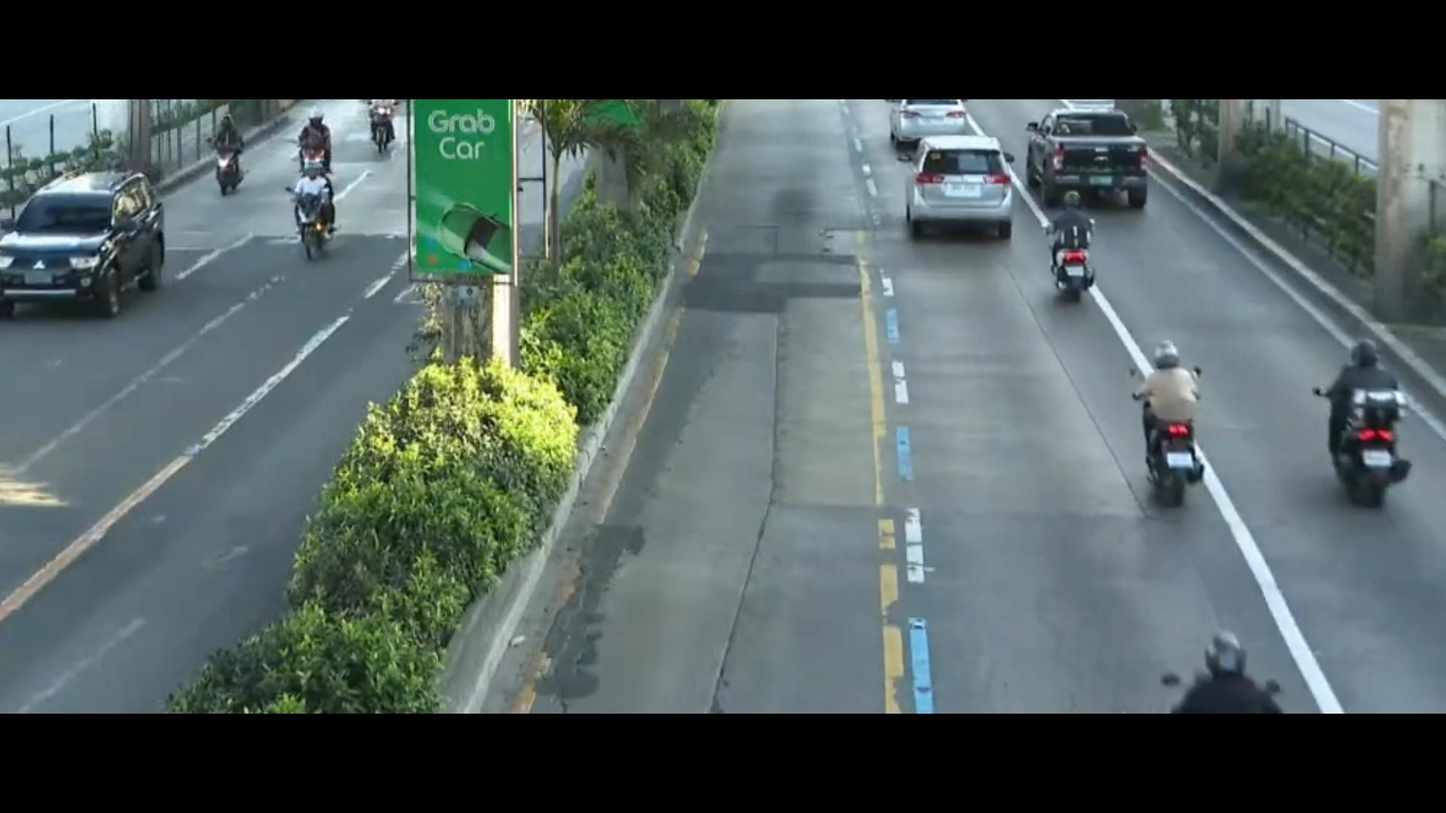Motorcycle: (1304, 328, 1428, 524), (1126, 341, 1247, 536), (274, 157, 366, 256), (1051, 198, 1109, 307), (206, 111, 262, 193), (287, 121, 354, 173), (357, 97, 399, 166)
Pickup: (1018, 106, 1162, 220)
SUV: (0, 151, 181, 319), (878, 138, 1023, 249), (882, 110, 976, 155)
